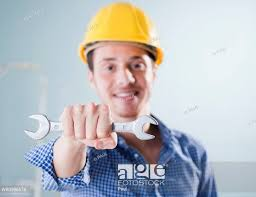Person_wearing_helmet: (75, 0, 169, 78)
